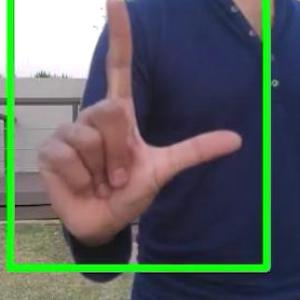land_hand: (27, 0, 252, 254)
